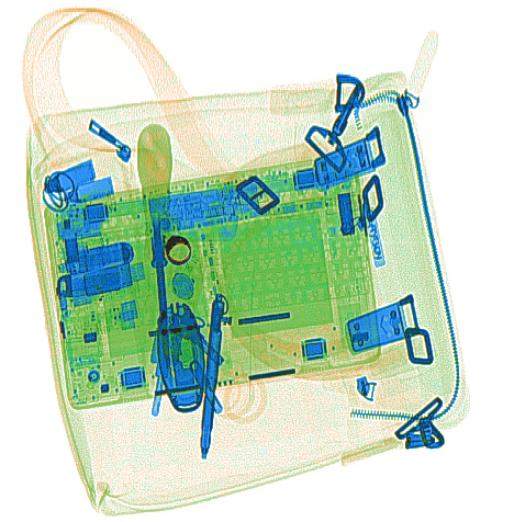USBFlashDisk: (84, 258, 147, 296)
